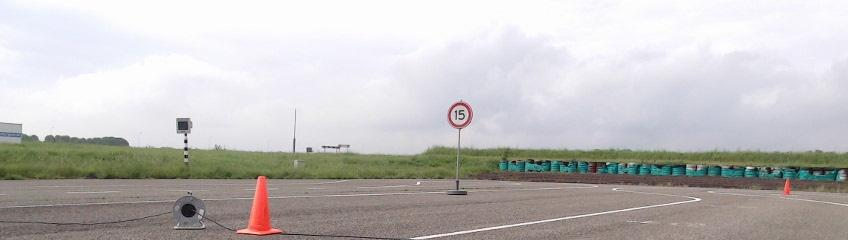Speed-limit-15km-h-: (447, 101, 473, 129)
